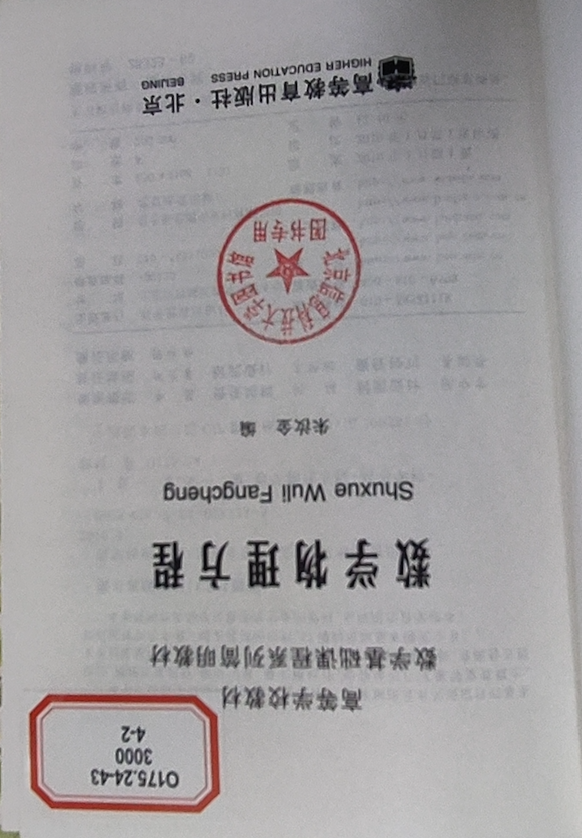Text_area: (152, 410, 455, 713), (21, 660, 246, 838), (209, 196, 366, 360), (144, 48, 444, 128)
